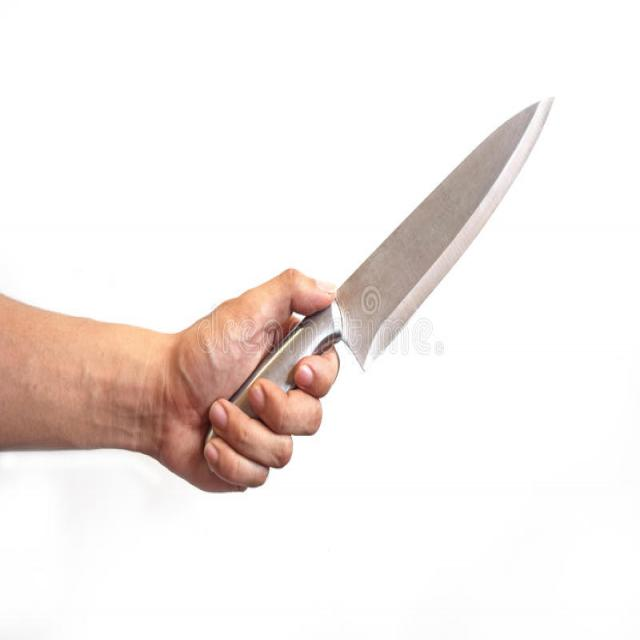knife: (222, 78, 566, 432)
